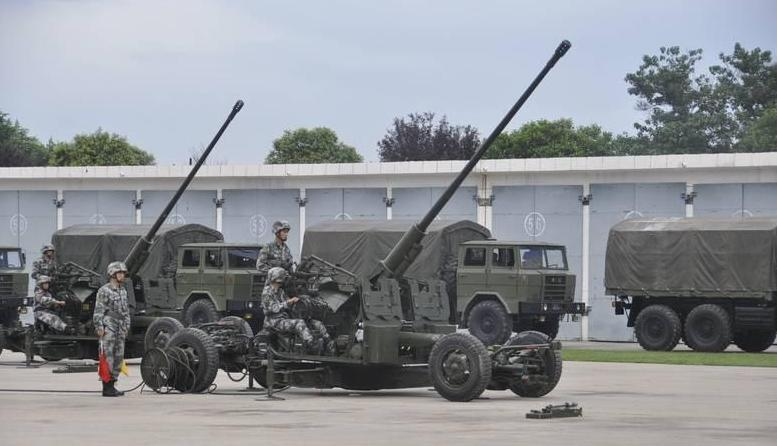MIL_SPG: (141, 41, 571, 401), (124, 100, 242, 357), (606, 219, 777, 352), (404, 220, 584, 341), (134, 225, 264, 326), (0, 261, 103, 363), (303, 222, 411, 278), (53, 225, 148, 275)
